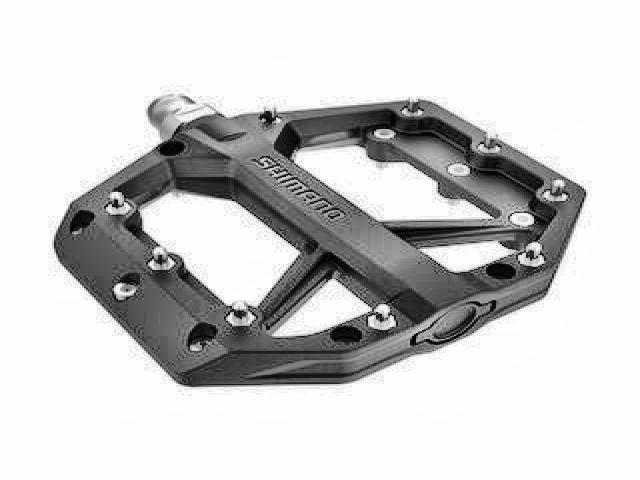pedal: (42, 92, 587, 394)
